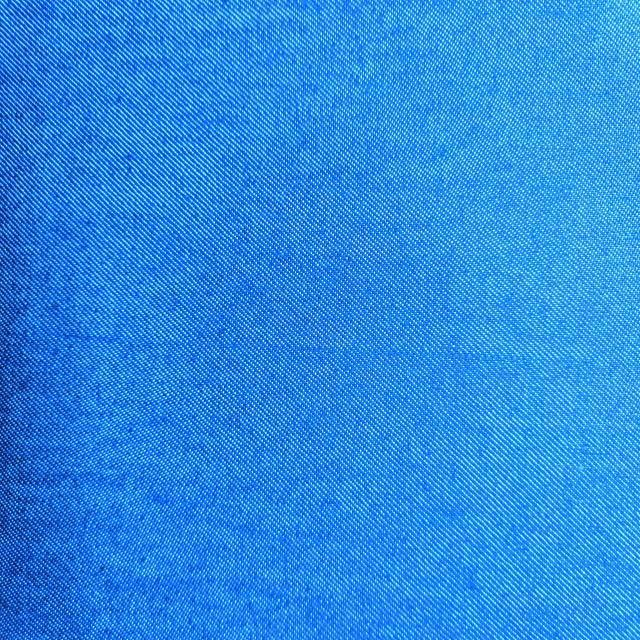Line: (40, 325, 612, 371)
